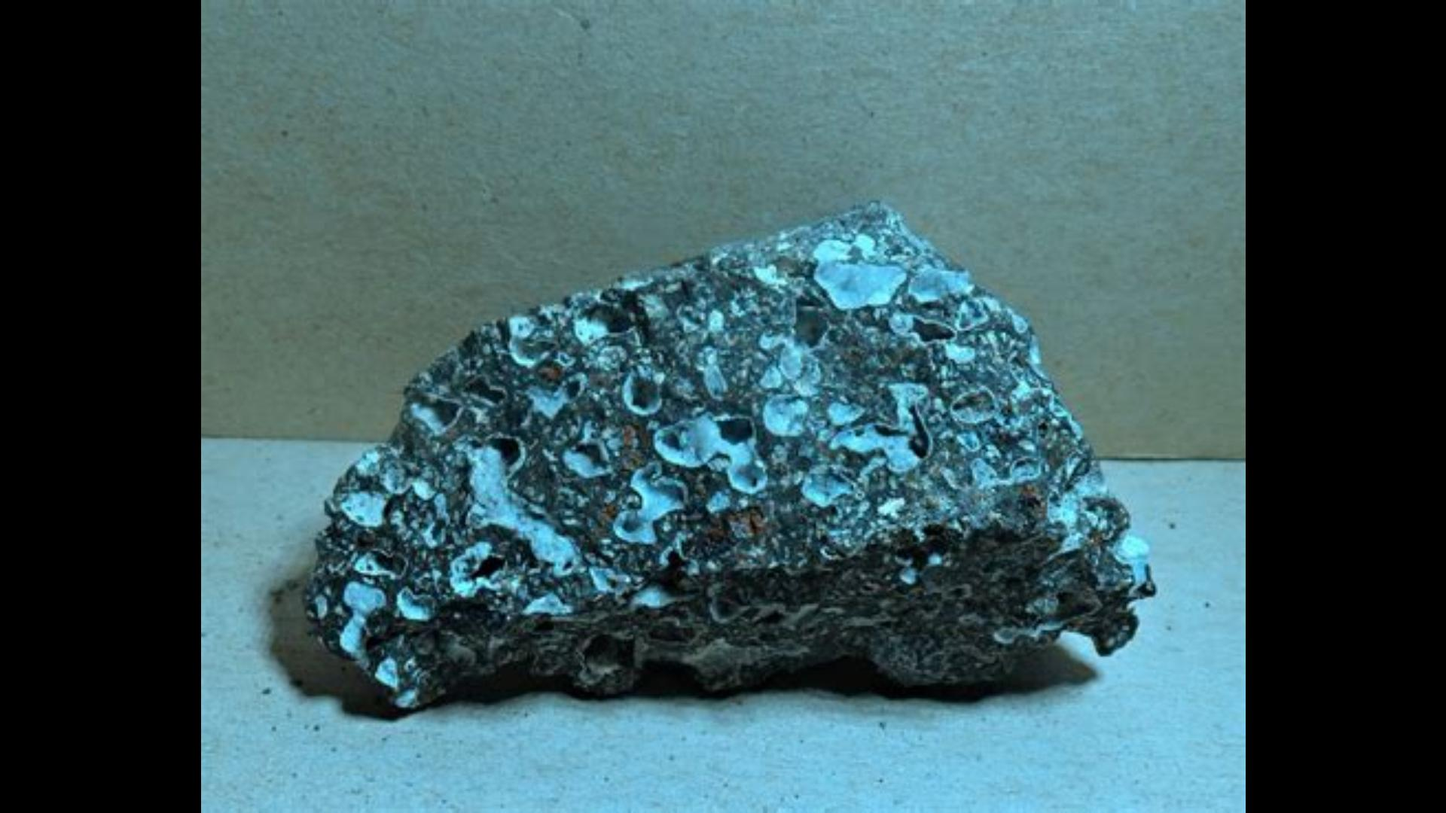rock: (306, 205, 1153, 709)
